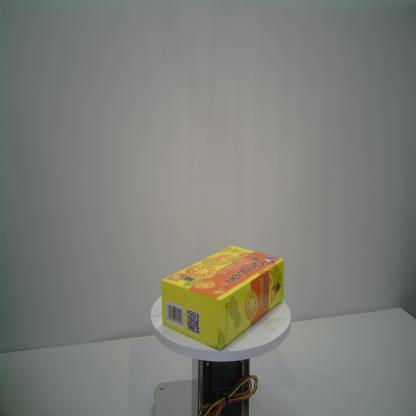Dessert: (161, 245, 285, 350)
